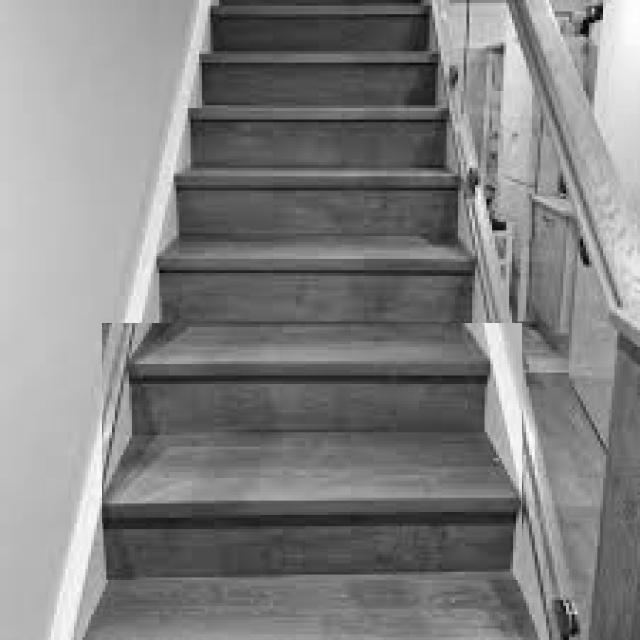stair: (101, 54, 522, 580), (102, 323, 522, 580)
